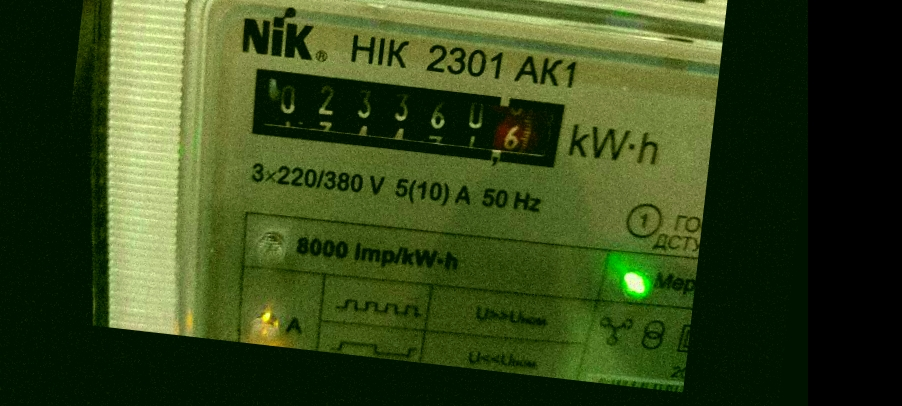0: (275, 80, 299, 115), (465, 97, 485, 130)
2: (313, 81, 339, 118)
3: (351, 86, 375, 120), (390, 89, 412, 122)
6: (425, 96, 448, 130), (498, 119, 522, 150)
screen: (229, 48, 579, 184)
